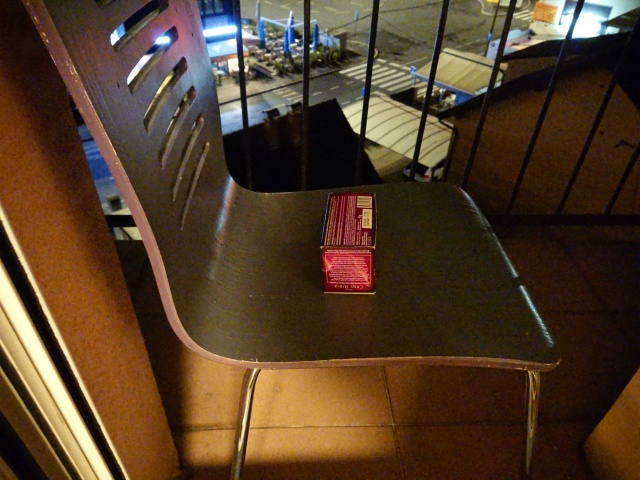Franck Black Currant Tea 60g: (318, 189, 380, 298)
